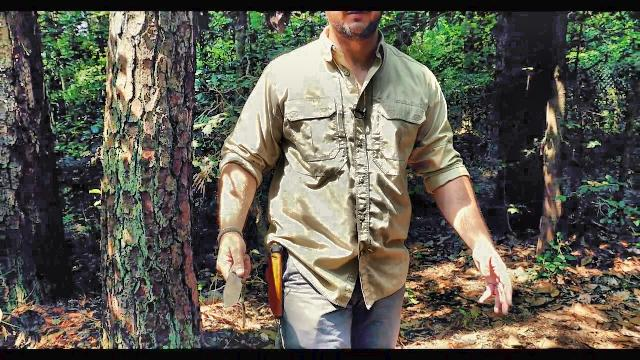knife: (210, 245, 254, 315)
